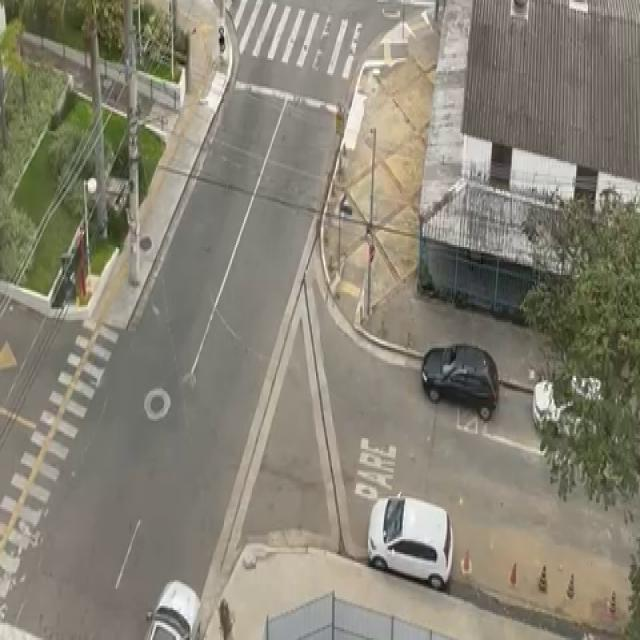car: (364, 489, 458, 596), (526, 363, 626, 455), (416, 329, 504, 424), (142, 573, 210, 640)
